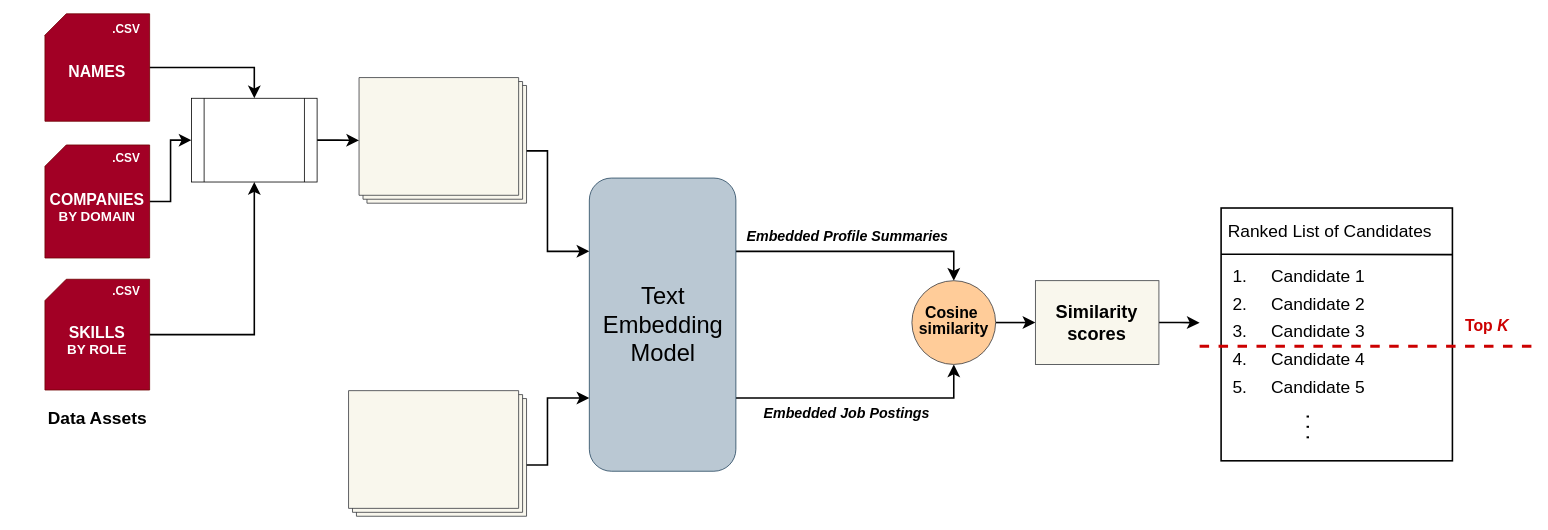
This 1548x530 diagram has some shape labels left out. The box of each missing label's shape, as (x1, y1, x2, y2) in pixels:
Job postings: (348, 390, 527, 516)
Professional Profile Summaries: (358, 77, 527, 203)
Template: (191, 97, 317, 182)
